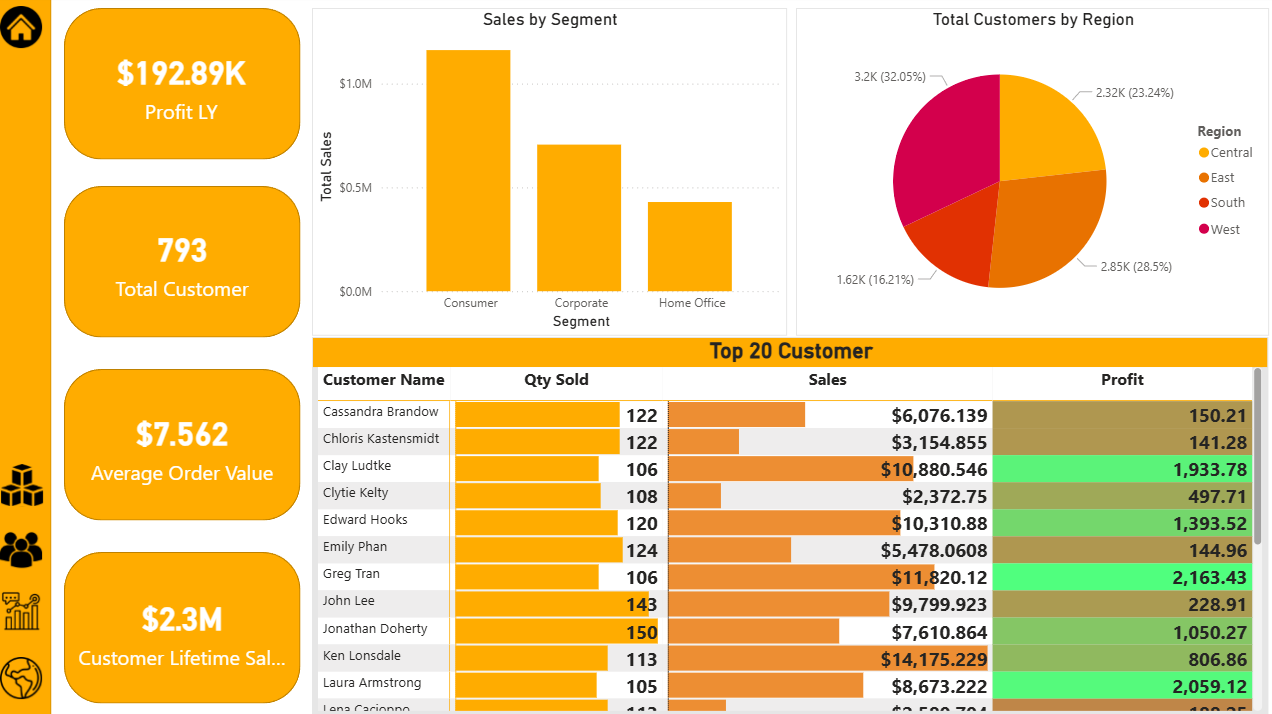

The page's visual inventory and layout, read from the dashboard file:
{"tool":"powerbi","page":{"name":"Customer ","canvas":[1280,720],"ordinal":2},"visuals":[{"type":"shape","box":[0,0,55.5,720],"z":0,"group":"g1"},{"type":"shape","box":[67.5,12.1,235.8,151.2],"z":0},{"type":"card","fields":{"Values":["Measure Table.Profit LY"]},"box":[73.6,3,221.7,169.3],"z":1000},{"type":"actionButton","box":[0,528.2,54.5,50],"z":1000,"group":"g1"},{"type":"pivotTable","title":"Top 20 Customer","fields":{"Values":["Measure Table.Total Qty Sold","Measure Table.Total Sales","Measure Table.Total Profit Matrix Table"],"Rows":["Superstore.Customer Name"]},"box":[315.5,340.7,954.5,379],"z":2000},{"type":"actionButton","box":[0,655.5,54.6,50.1],"z":2000,"group":"g1"},{"type":"actionButton","box":[0,6,55,50],"z":3000,"group":"g1"},{"type":"shape","box":[67.5,189.5,235.8,151.2],"z":3000},{"type":"shape","box":[67.5,371.9,235.8,151.2],"z":4000},{"type":"actionButton","box":[0.9,462.7,54.5,50],"z":4000,"group":"g1"},{"type":"shape","box":[67.5,554.3,235.8,151.2],"z":5000},{"type":"card","fields":{"Values":["Table.Total Customer"]},"box":[72.6,189.5,225.8,149.2],"z":6000},{"type":"card","fields":{"Values":["Measure Table.Average Order Value"]},"box":[75.6,369.9,219.7,155.2],"z":7000},{"type":"columnChart","title":"Sales by Segment","fields":{"Category":["Superstore.Segment"],"Y":["Measure Table.Total Sales"]},"box":[315.5,12.1,473.7,326.6],"z":8000},{"type":"pieChart","title":"Total Customers by Region","fields":{"Y":["Superstore.Customer Name"],"Category":["Superstore.Region"]},"box":[798.2,12.1,471.7,326.6],"z":9000},{"type":"card","fields":{"Values":["Measure Table.Customer Lifetime Sales"]},"box":[75.6,554.3,219.7,155.2],"z":10000},{"type":"group","id":"g1","title":"Group 1","box":[0,0,55.5,720],"z":11000},{"type":"actionButton","box":[0,589.1,54.5,50],"z":13001,"group":"g1"}]}

Visuals, with their boxes in screenshot pixels (x1, y1, x2, y2), scaled from the page's 1280x720 canvas onto the 1272x714 screenshot:
shape: <bbox>0, 0, 55, 713</bbox>
shape: <bbox>67, 12, 301, 162</bbox>
card - Measure Table.Profit LY: <bbox>73, 3, 293, 171</bbox>
actionButton: <bbox>0, 524, 54, 573</bbox>
"Top 20 Customer" pivotTable: <bbox>314, 338, 1262, 713</bbox>
actionButton: <bbox>0, 650, 54, 700</bbox>
actionButton: <bbox>0, 6, 55, 56</bbox>
shape: <bbox>67, 188, 301, 338</bbox>
shape: <bbox>67, 369, 301, 519</bbox>
actionButton: <bbox>1, 459, 55, 508</bbox>
shape: <bbox>67, 550, 301, 700</bbox>
card - Table.Total Customer: <bbox>72, 188, 297, 336</bbox>
card - Measure Table.Average Order Value: <bbox>75, 367, 293, 521</bbox>
"Sales by Segment" columnChart: <bbox>314, 12, 784, 336</bbox>
"Total Customers by Region" pieChart: <bbox>793, 12, 1262, 336</bbox>
card - Measure Table.Customer Lifetime Sales: <bbox>75, 550, 293, 704</bbox>
"Group 1" group: <bbox>0, 0, 55, 713</bbox>
actionButton: <bbox>0, 584, 54, 634</bbox>
